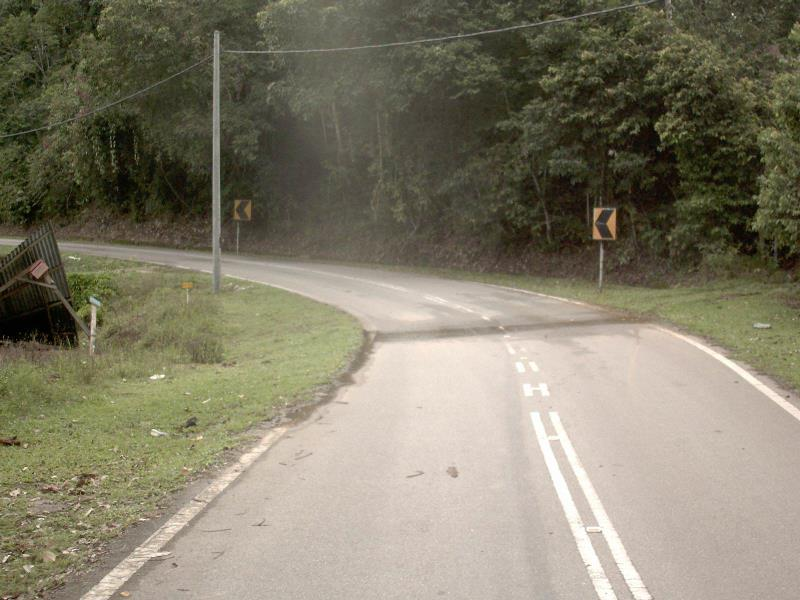traffic_sign: (585, 197, 624, 250)
